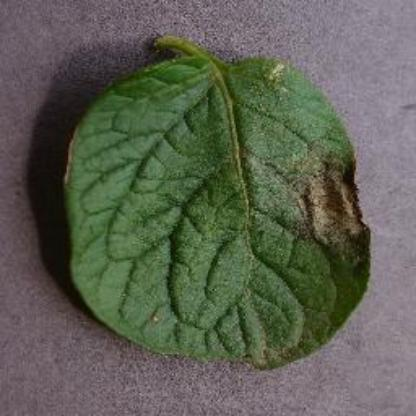Late-Blight: (59, 31, 379, 373)
